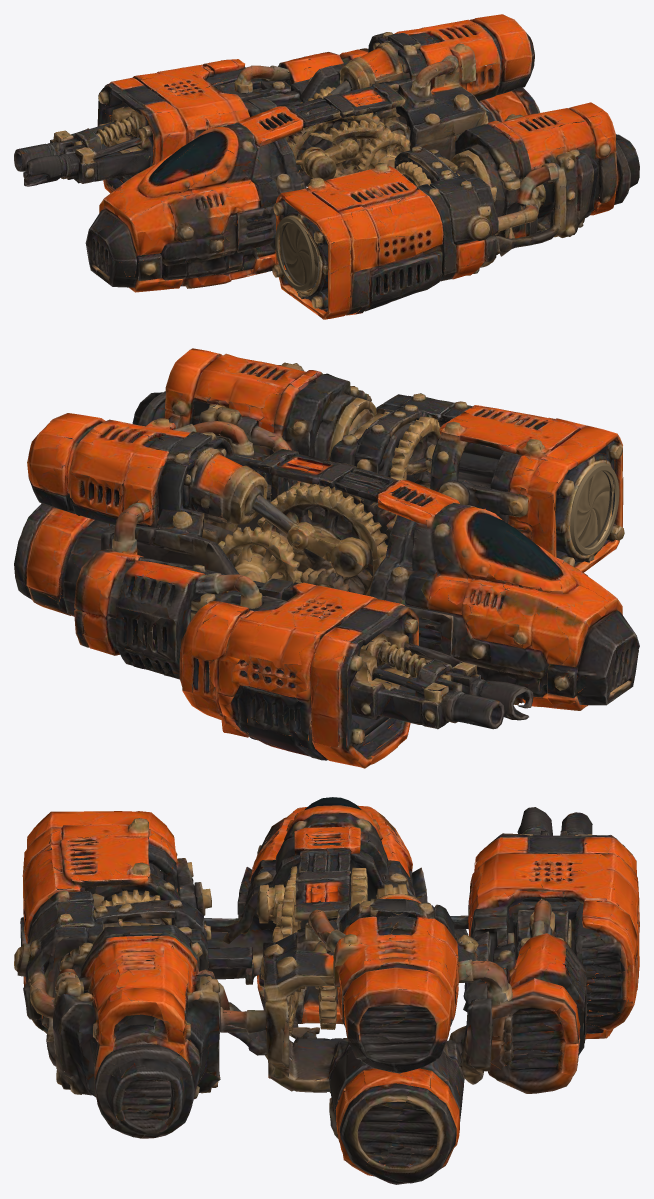
Rendered from thul-iris.glb.
3 renders of one model, top to bottom at view 1: azimuth 30°, elevation 25°; view 2: azimuth 150°, elevation 25°; view 3: azimuth 270°, elevation 25°, orthographic. The views are drawn at different scales.
Visible parts, largest first — view 1: Thul_Hull, Thul_IrisCollar; view 2: Thul_Hull, Thul_IrisCollar; view 3: Thul_Hull.
Part boxes in pixels (x1,y1,x2,y2): Thul_Hull: (14,14,639,319); Thul_IrisCollar: (275,213,352,291); Thul_Hull: (14,348,639,768); Thul_IrisCollar: (512,457,619,555); Thul_Hull: (14,797,639,1184).
Size of the model in its own units: 1.9 by 0.6471 by 1.68.
Materials: 3 (1 with a texture image).
